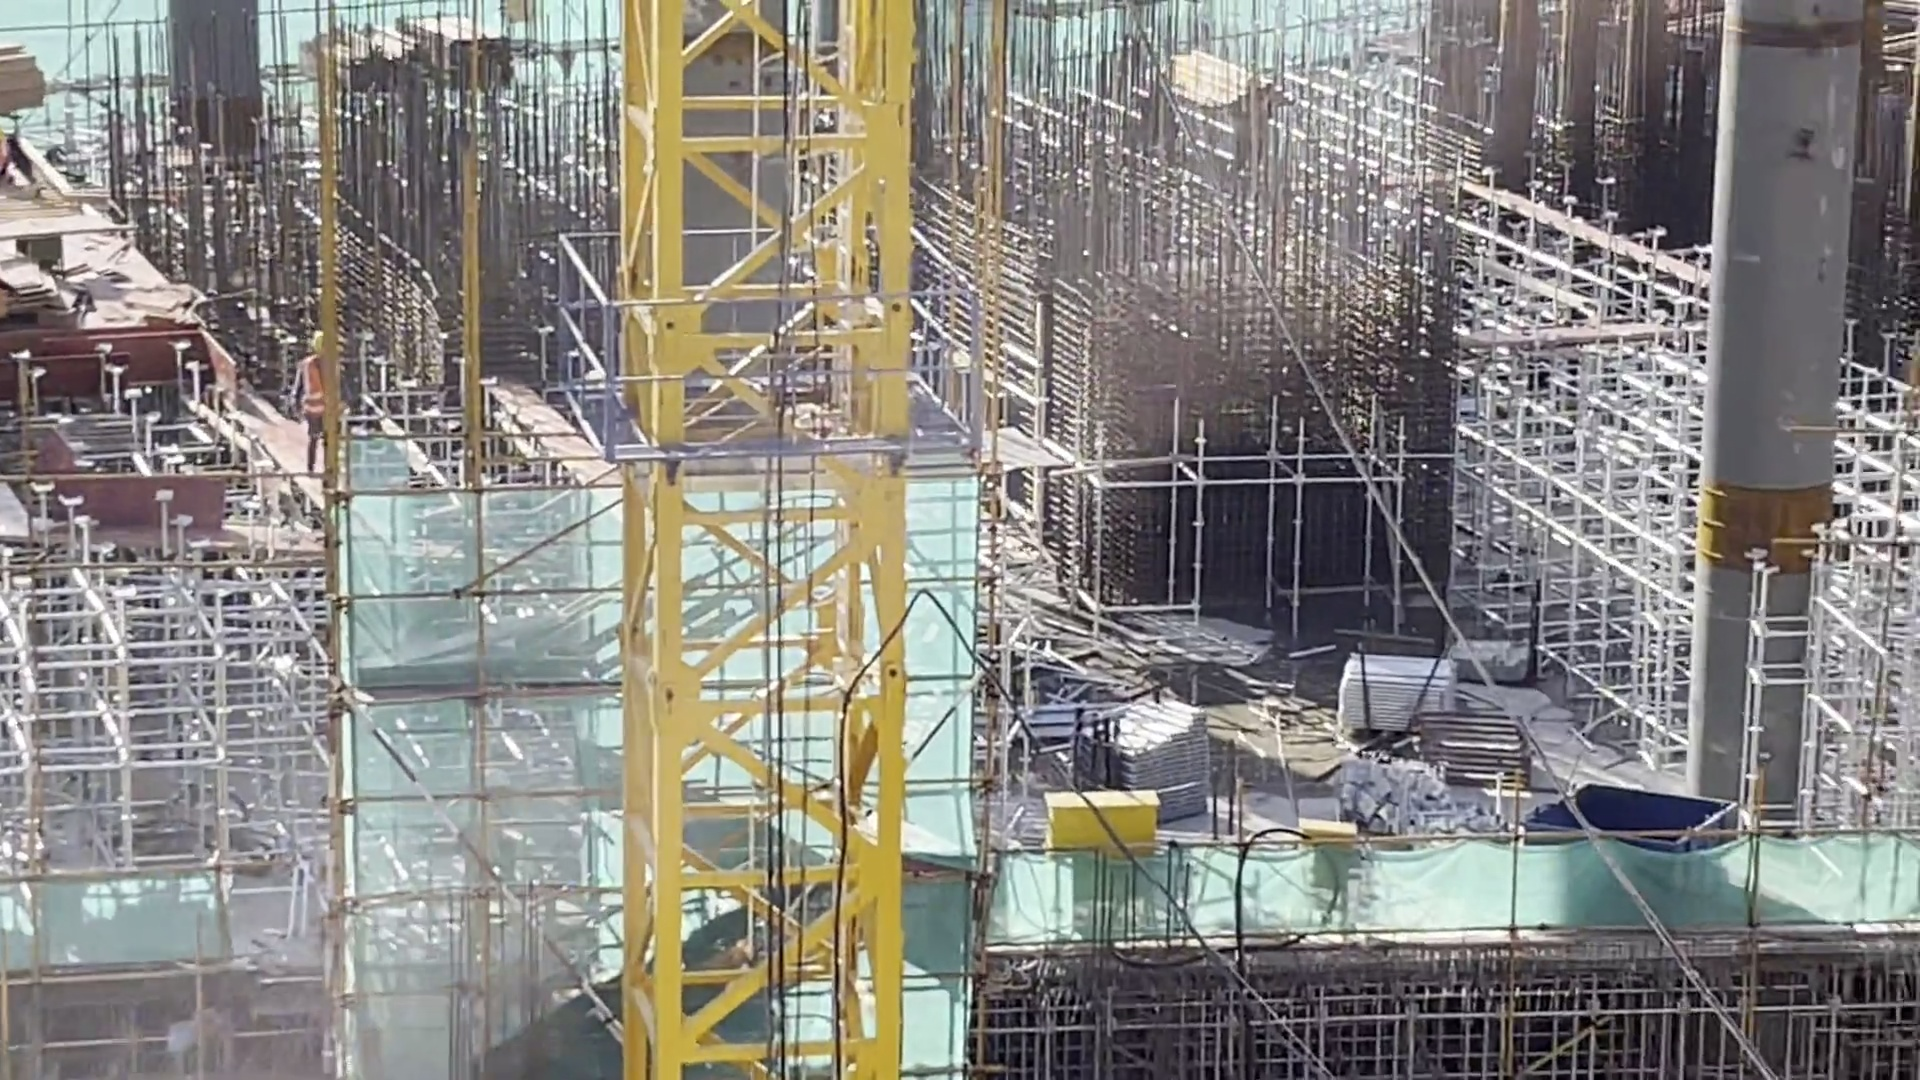ebox: (1033, 786, 1160, 838)
helmet: (310, 333, 323, 355)
hopper: (1521, 778, 1740, 841)
person: (294, 328, 328, 474)
slogan: (1343, 651, 1452, 732)
vest: (299, 356, 324, 417)
wood: (1, 42, 47, 123)
